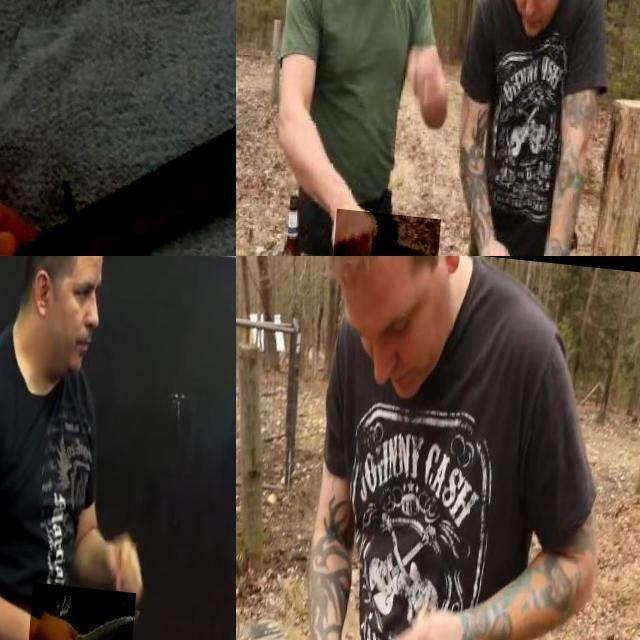-: (0, 0, 236, 256), (32, 580, 142, 640), (339, 203, 447, 256)
